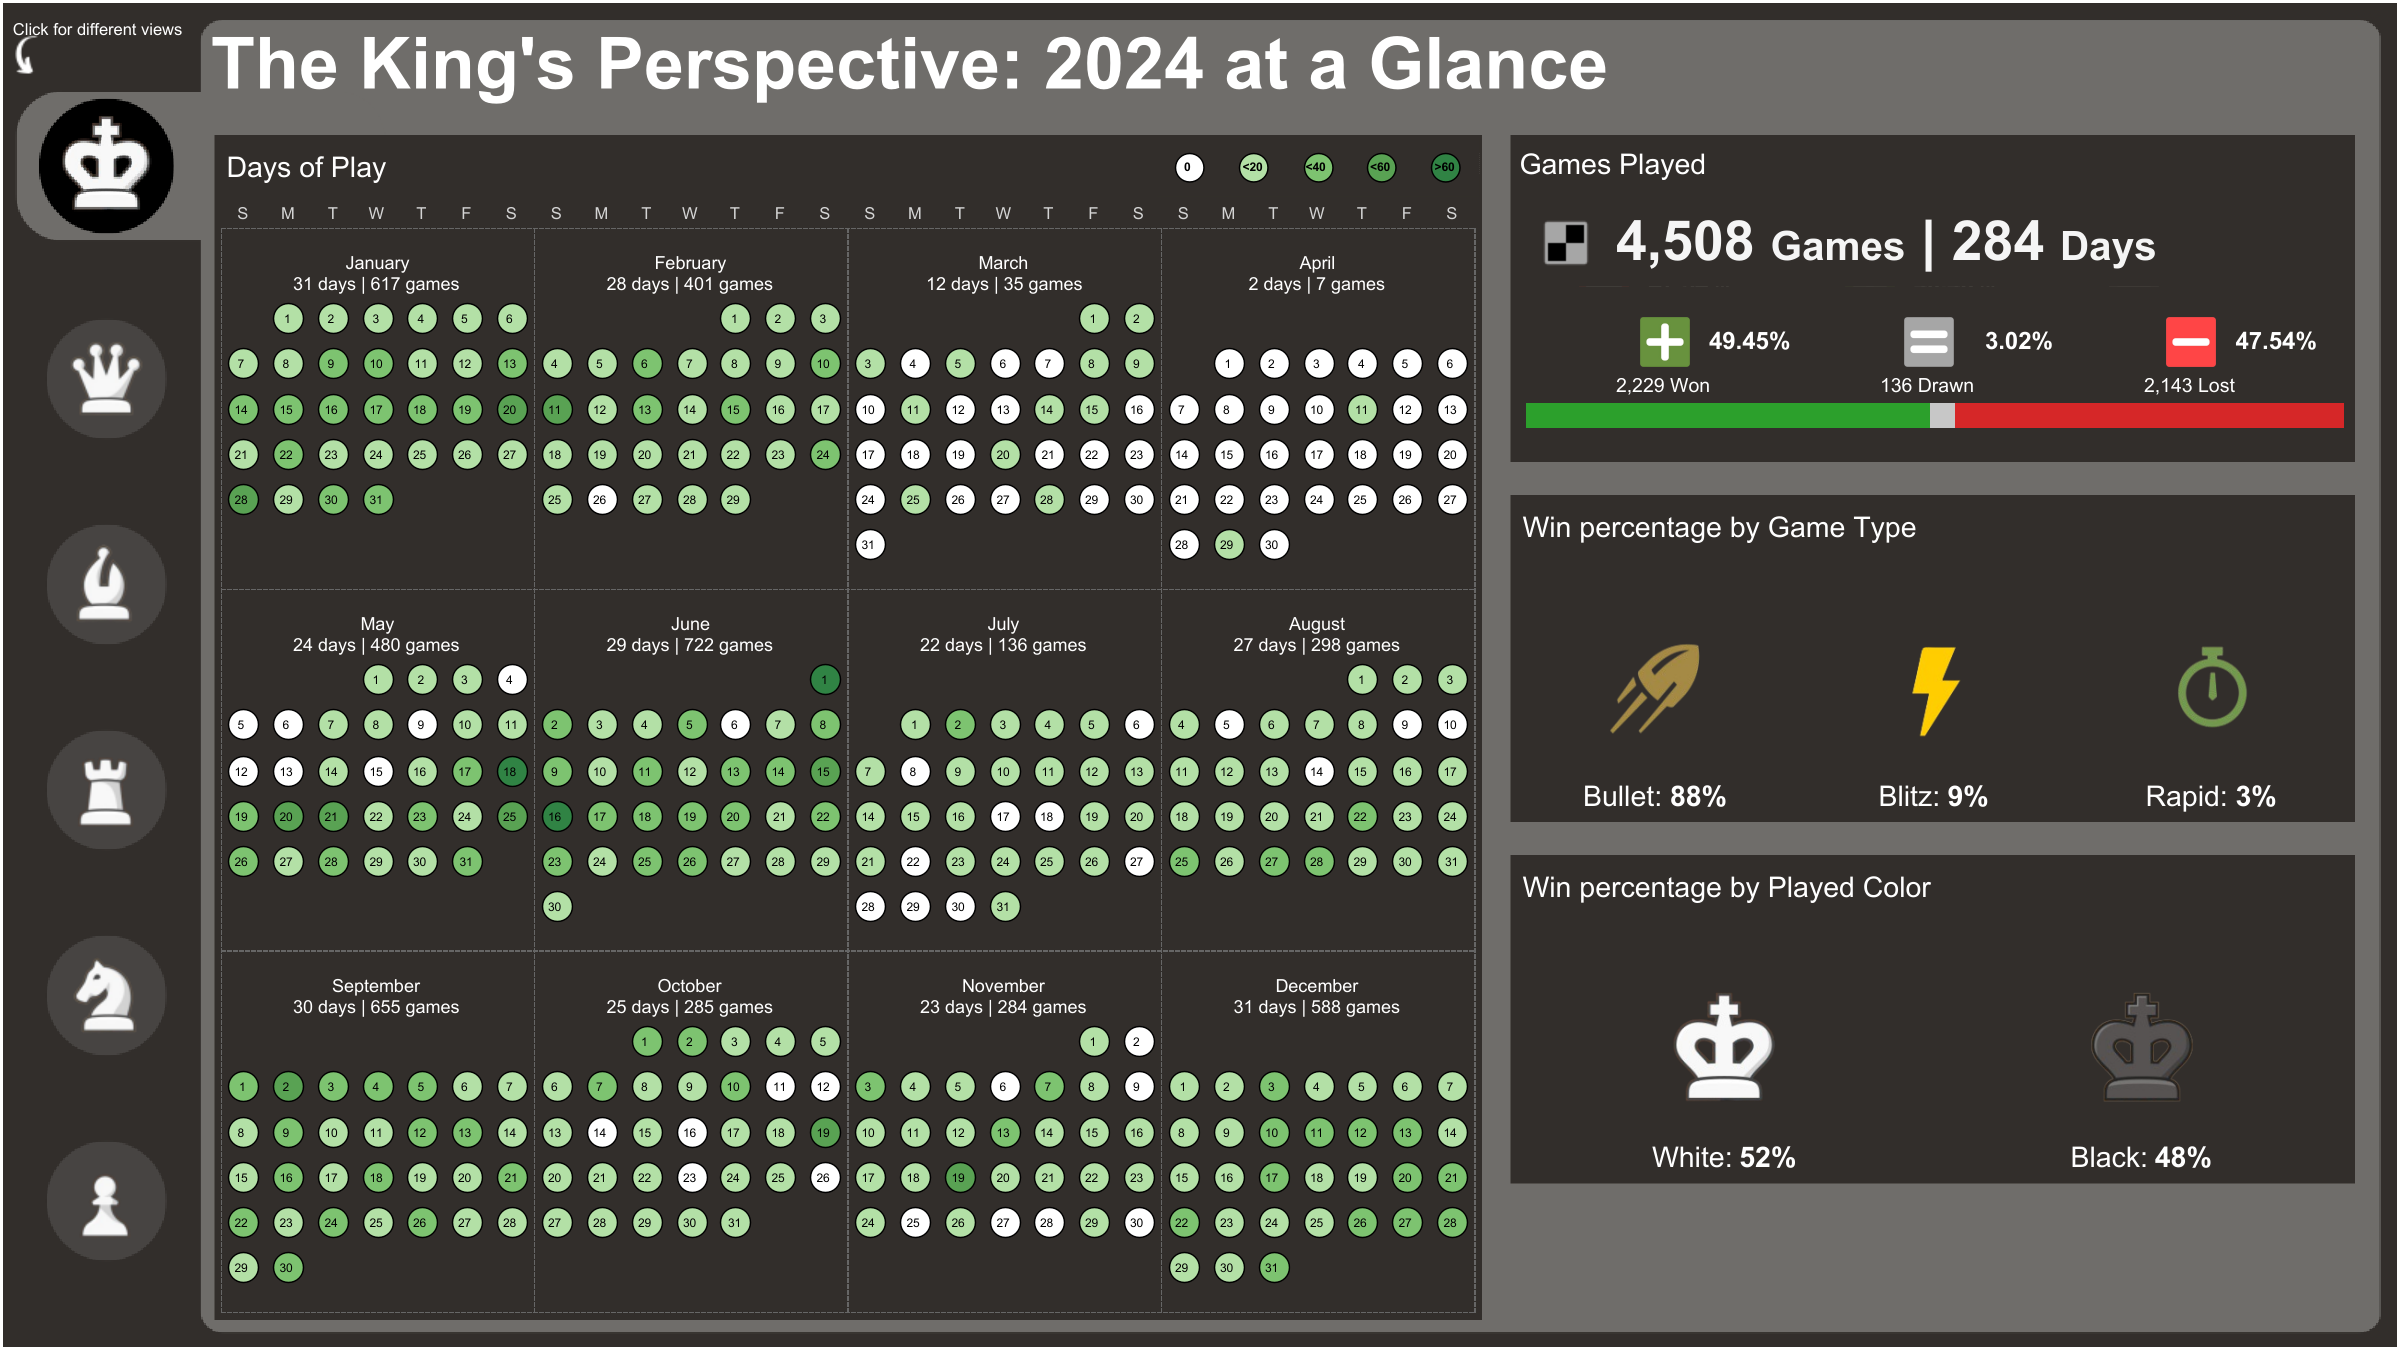

The dashboard page shown, as its layout file describes it:
{"tool":"tableau","page":{"name":"King","canvas":[1600,900],"ordinal":2},"visuals":[{"type":"image","param":"Image/Nav - 1.png","box":[2,2,1596,896]},{"type":"text","box":[6,5,133,28]},{"type":"text","box":[138,8,990,68]},{"type":"image","param":"Image/Arrow.png","box":[6,21,22,32]},{"type":"image","param":"Image/King_W.png","box":[34,72,75,75]},{"type":"worksheet","title":"Calendar","mark":"Circle","rows":["Calculation_5530631486612176898","Calculation_5530631486616256518"],"cols":["Date (Sheet1)"],"box":[143,90,845,790]},{"type":"legend","title":"White/Black won","param":"[federated.04mmta906fb7fi1eob9la01d9y4l].[none:Played_as:nk]","box":[1007,90,563,67]},{"type":"worksheet","title":"Calendar_Color","mark":"Circle","cols":["Calculation_5874171696089952256"],"box":[771,92,215,38]},{"type":"worksheet","title":"Total Games","mark":"Text","box":[1009,92,433,99]},{"type":"image","param":"Image/Untitled_design-removebg-preview.png","box":[1024,142,40,40]},{"type":"worksheet","title":"Games KPI 2","mark":"Shape","cols":["Result"],"box":[1021,193,527,67]},{"type":"dashboard-object","box":[41,222,60,60]},{"type":"worksheet","title":"Games KPI 3","mark":"Text","cols":["Result"],"box":[1021,248,527,17]},{"type":"worksheet","title":"Games KPI","mark":"Automatic","cols":["Calculation_4287567616097128449"],"box":[1017,265,545,22]},{"type":"worksheet","title":"Game Type won","mark":"Shape","cols":["Game_Type","Result"],"box":[1007,330,563,218]},{"type":"dashboard-object","box":[41,359,60,60]},{"type":"image","param":"Image/KingText.png","box":[1104,410,420,414]},{"type":"dashboard-object","box":[41,496,60,60]},{"type":"worksheet","title":"White/Black won","mark":"Shape","cols":["Played_as","Result"],"box":[1007,570,563,219]},{"type":"dashboard-object","box":[41,633,60,60]},{"type":"dashboard-object","box":[41,770,60,60]},{"type":"dashboard-object","box":[1506,800,79,86]}]}

Visuals, with their boxes in screenshot pixels (x1, y1, x2, y2), scaled from the page's 1600x900 canvas onto the 2399x1349 screenshot:
image: {"x1": 3, "y1": 3, "x2": 2396, "y2": 1346}
text: {"x1": 9, "y1": 7, "x2": 208, "y2": 49}
text: {"x1": 207, "y1": 12, "x2": 1691, "y2": 114}
image: {"x1": 9, "y1": 31, "x2": 42, "y2": 79}
image: {"x1": 51, "y1": 108, "x2": 163, "y2": 220}
"Calendar" worksheet (Circle marks): {"x1": 214, "y1": 135, "x2": 1481, "y2": 1319}
"White/Black won" legend: {"x1": 1510, "y1": 135, "x2": 2354, "y2": 235}
"Calendar_Color" worksheet (Circle marks): {"x1": 1156, "y1": 138, "x2": 1478, "y2": 195}
"Total Games" worksheet (Text marks): {"x1": 1513, "y1": 138, "x2": 2162, "y2": 286}
image: {"x1": 1535, "y1": 213, "x2": 1595, "y2": 273}
"Games KPI 2" worksheet (Shape marks): {"x1": 1531, "y1": 289, "x2": 2321, "y2": 390}
dashboard-object: {"x1": 61, "y1": 333, "x2": 151, "y2": 423}
"Games KPI 3" worksheet (Text marks): {"x1": 1531, "y1": 372, "x2": 2321, "y2": 397}
"Games KPI" worksheet: {"x1": 1525, "y1": 397, "x2": 2342, "y2": 430}
"Game Type won" worksheet (Shape marks): {"x1": 1510, "y1": 495, "x2": 2354, "y2": 821}
dashboard-object: {"x1": 61, "y1": 538, "x2": 151, "y2": 628}
image: {"x1": 1655, "y1": 615, "x2": 2285, "y2": 1235}
dashboard-object: {"x1": 61, "y1": 743, "x2": 151, "y2": 833}
"White/Black won" worksheet (Shape marks): {"x1": 1510, "y1": 854, "x2": 2354, "y2": 1183}
dashboard-object: {"x1": 61, "y1": 949, "x2": 151, "y2": 1039}
dashboard-object: {"x1": 61, "y1": 1154, "x2": 151, "y2": 1244}
dashboard-object: {"x1": 2258, "y1": 1199, "x2": 2377, "y2": 1328}
